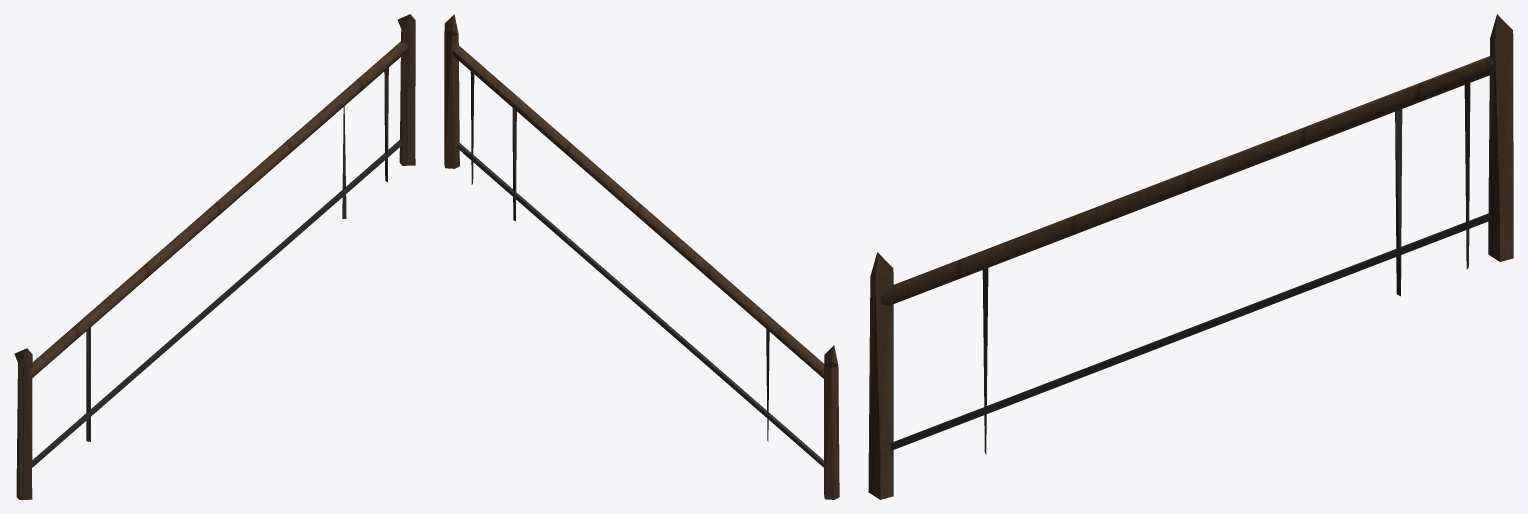
File: stair_railing_lod2.glb
The picture shows the model from 3 angles, left to right: view 1: azimuth 30°, elevation 25°; view 2: azimuth 150°, elevation 25°; view 3: azimuth 330°, elevation 25°; orthographic projection. The views are drawn at different scales.
Visible parts, largest first — view 1: stair_railing; view 2: stair_railing; view 3: stair_railing.
Part boxes in pixels (x1,y1,x2,y2): stair_railing: [14, 14, 415, 499]; stair_railing: [444, 14, 839, 499]; stair_railing: [868, 14, 1513, 499].
Size of the model in its own units: 3.11 by 2.93 by 0.1261.
Materials: 1 (1 with a texture image).
